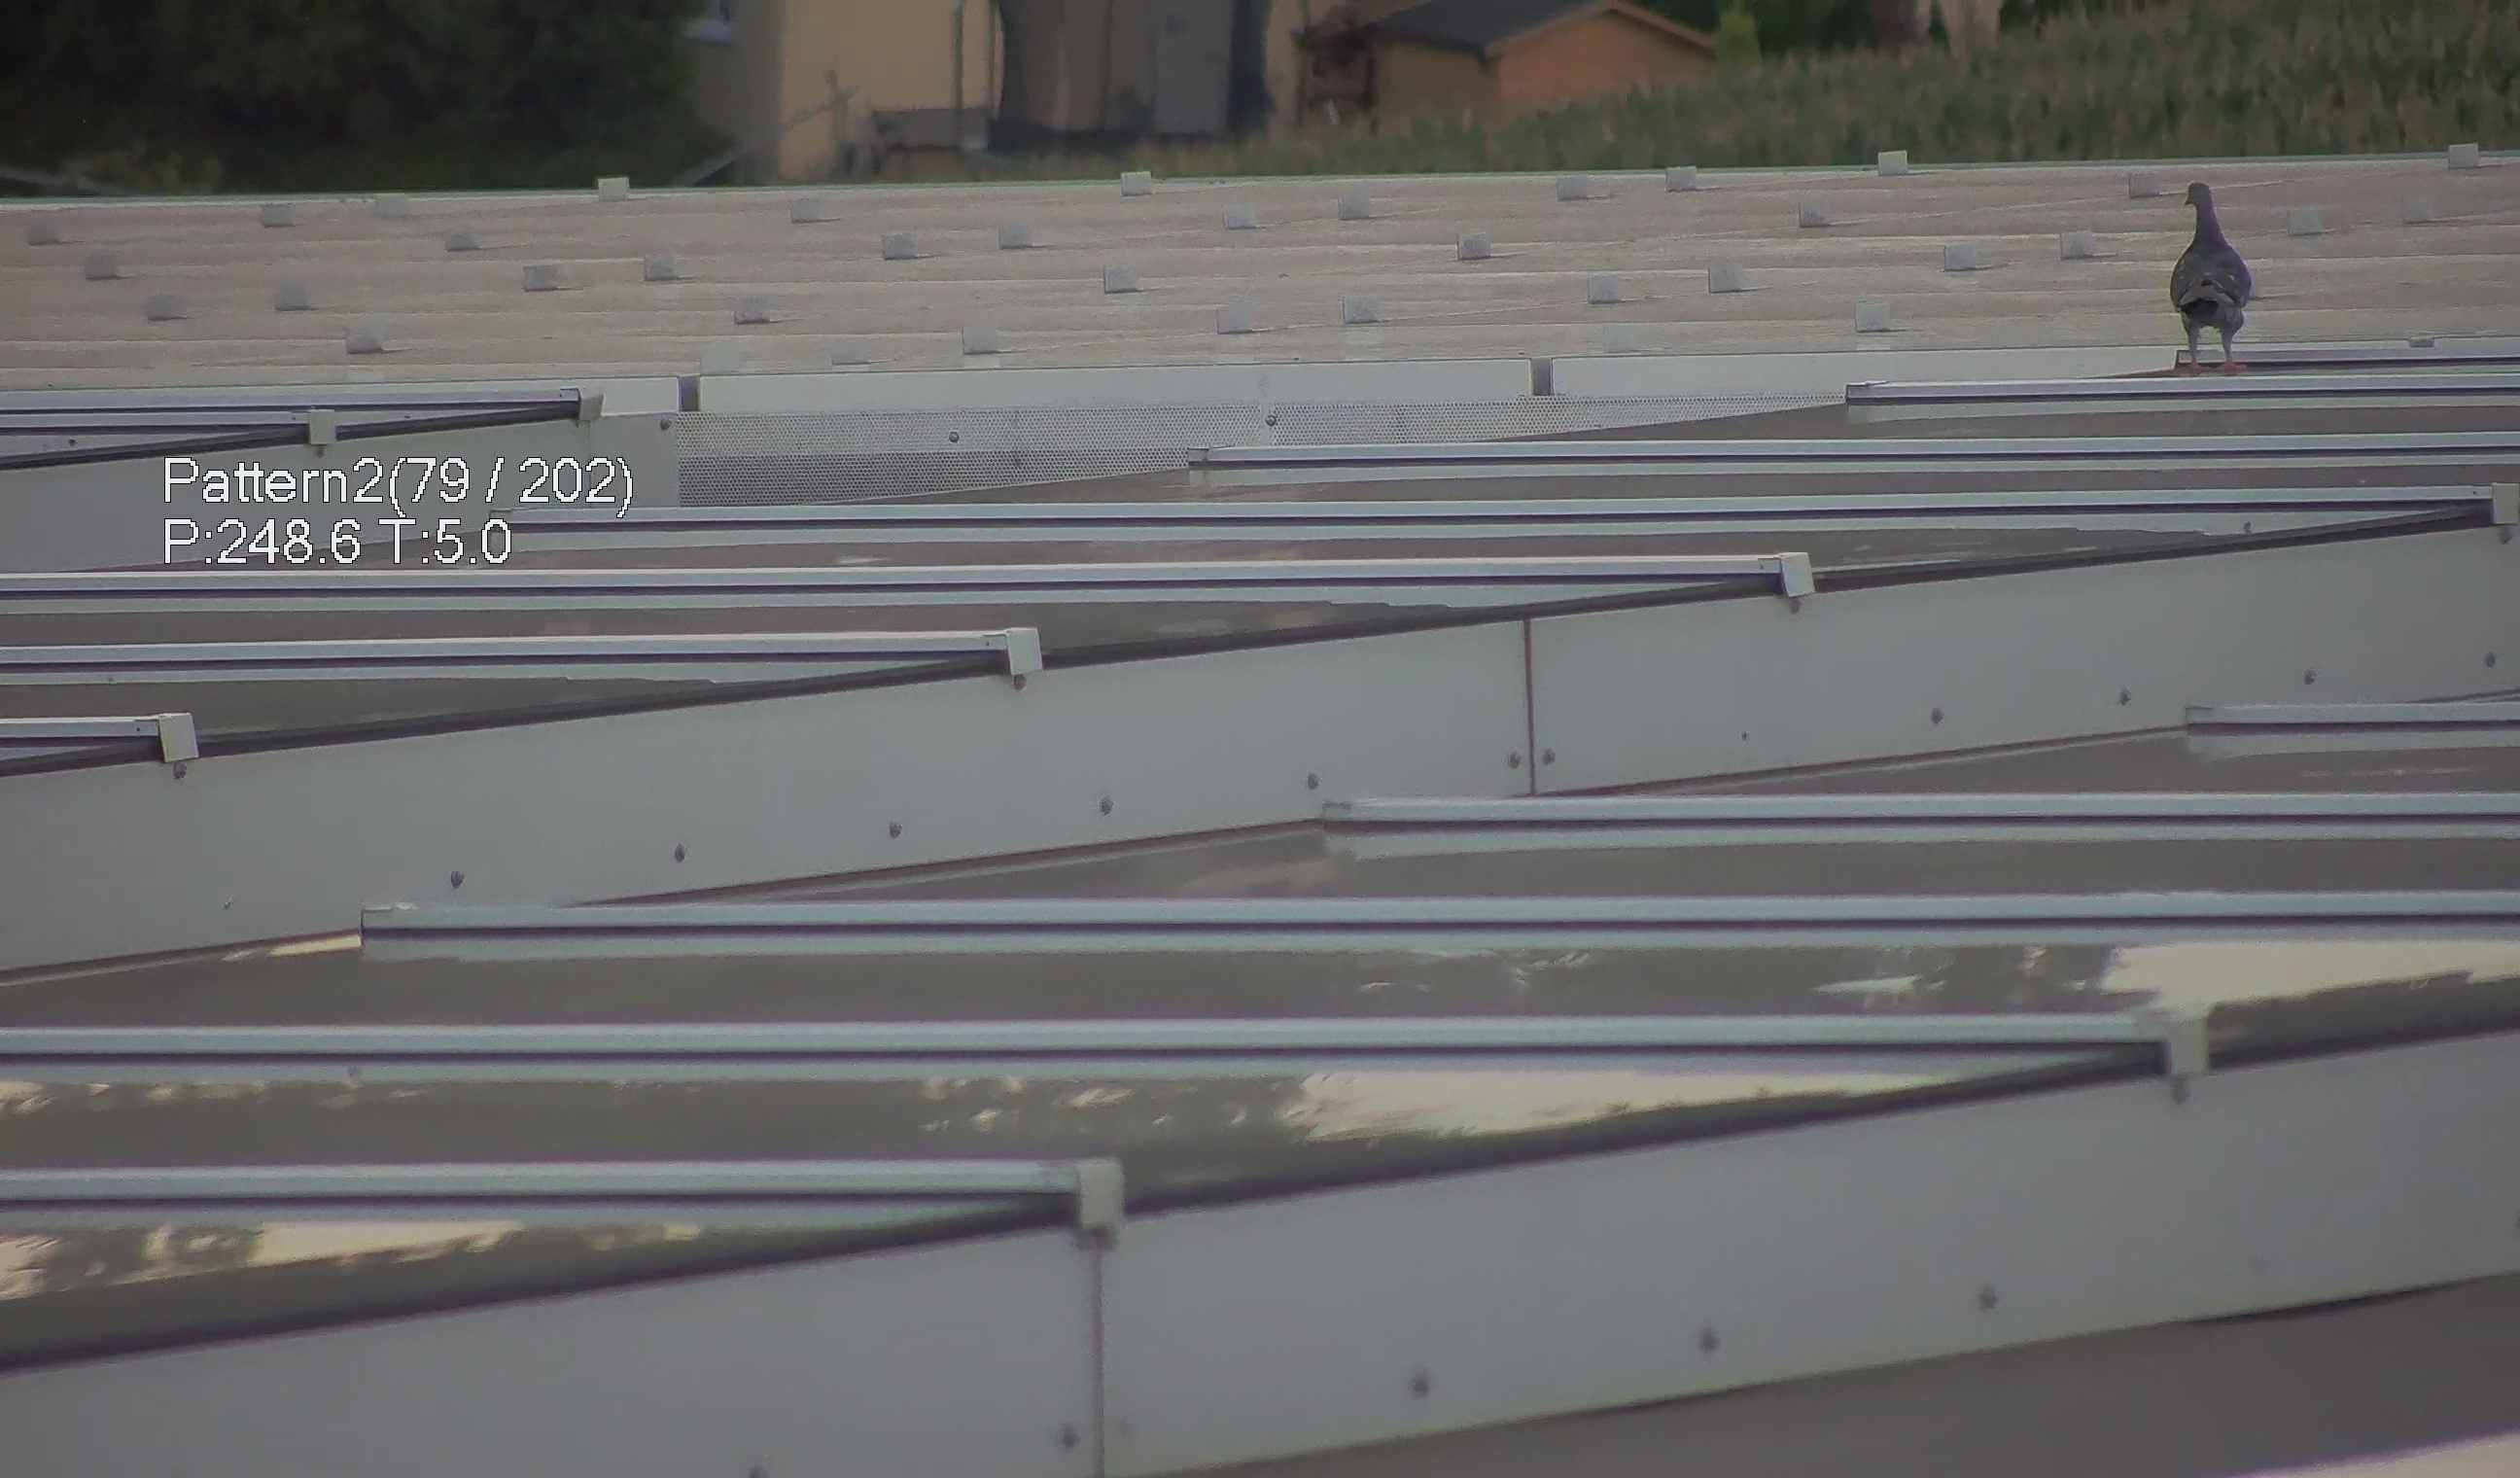Pigeon: (2165, 158, 2270, 359)
